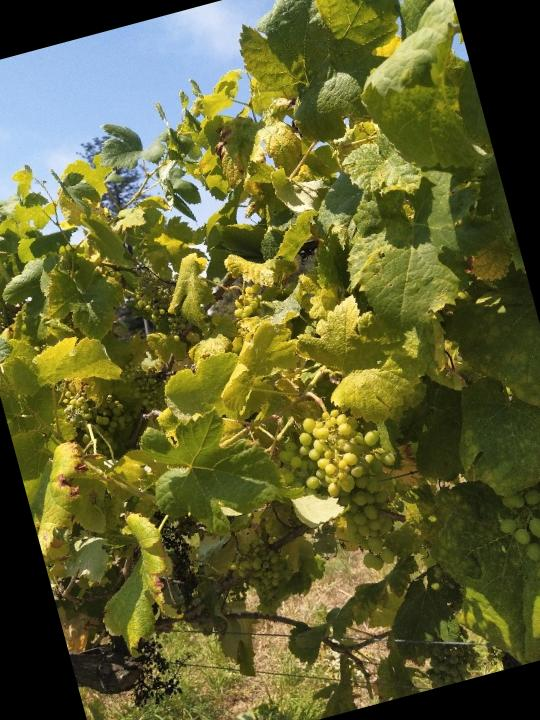grape: (267, 396, 424, 587)
